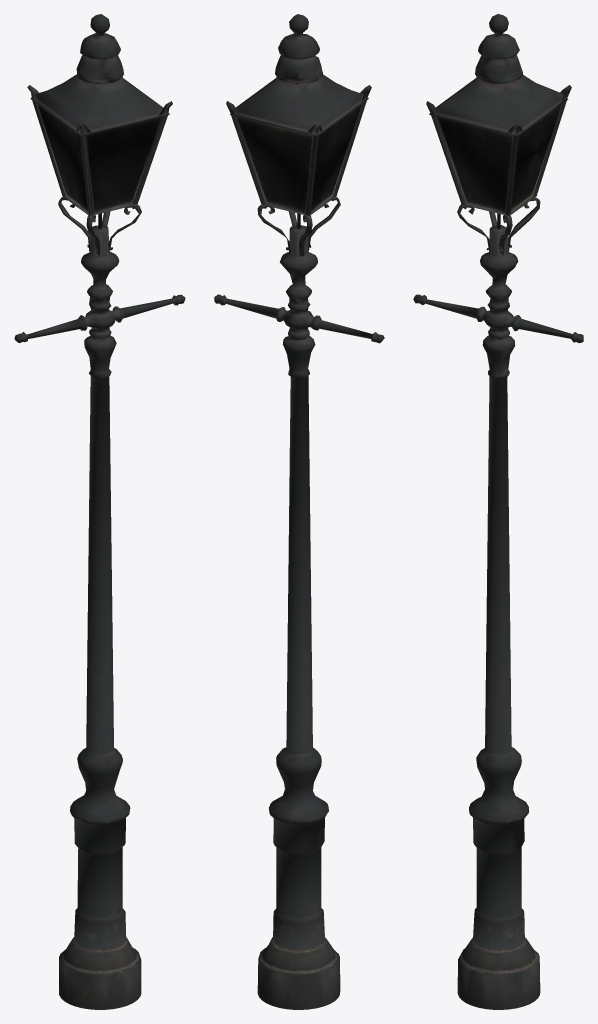
Rendered from street_lamp_01.glb.
3 views of the same model, side by side, from view 1: azimuth 30°, elevation 25°; view 2: azimuth 150°, elevation 25°; view 3: azimuth 330°, elevation 25° (orthographic).
Visible parts, largest first — view 1: street_lamp_01; view 2: street_lamp_01; view 3: street_lamp_01.
Boxes of the visible parts, box(x1,y1,x2,y2) form: street_lamp_01: box(14, 14, 185, 1009); street_lamp_01: box(214, 14, 384, 1009); street_lamp_01: box(413, 14, 583, 1009).
Bounding box in the file's own units: 0.7011 × 3.87 × 0.3855.
2 materials, 2 textured.
